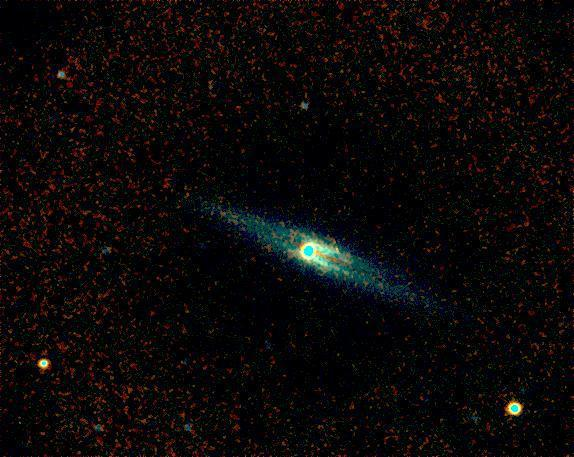star: (323, 233, 353, 263)
